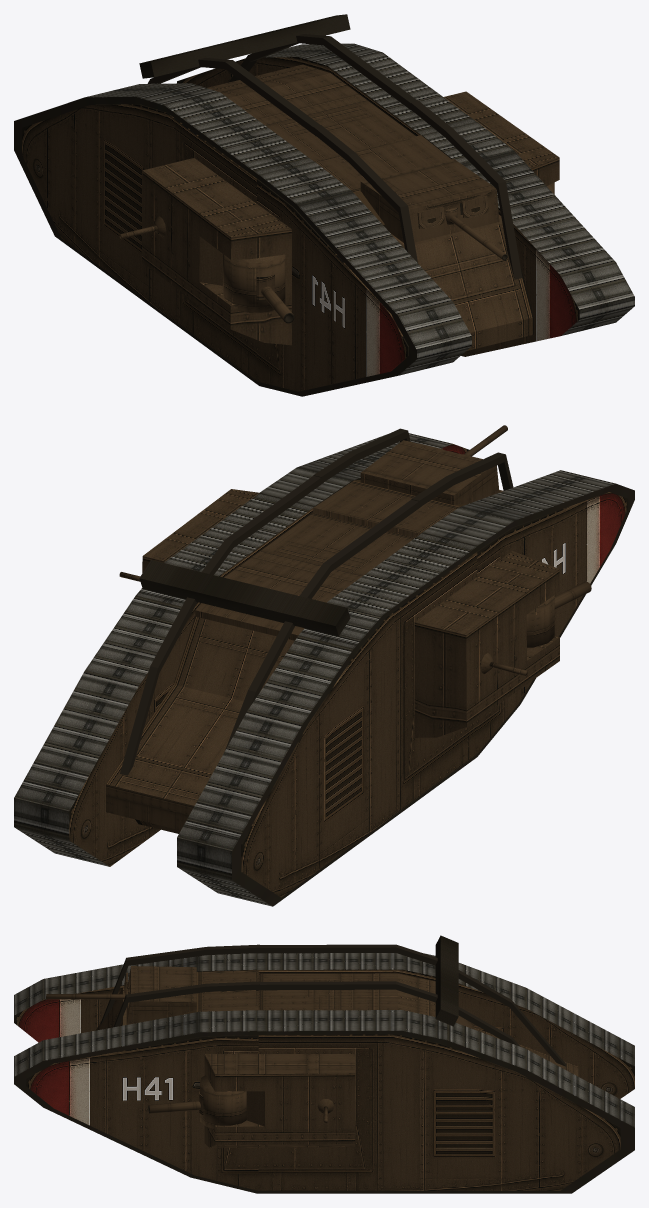
File: mark_iv.dae
The picture shows the model from 3 angles, top to bottom: view 1: azimuth 30°, elevation 25°; view 2: azimuth 150°, elevation 25°; view 3: azimuth 270°, elevation 25°; orthographic projection. The views are drawn at different scales.
Visible parts, largest first — view 1: mark_iv; view 2: mark_iv; view 3: mark_iv.
Boxes of the visible parts, x1=… form: mark_iv: x1=14, y1=14, x2=634, y2=396; mark_iv: x1=14, y1=425, x2=634, y2=906; mark_iv: x1=14, y1=935, x2=634, y2=1193.
Size of the model in its own units: 13.57 by 23.35 by 7.81.
